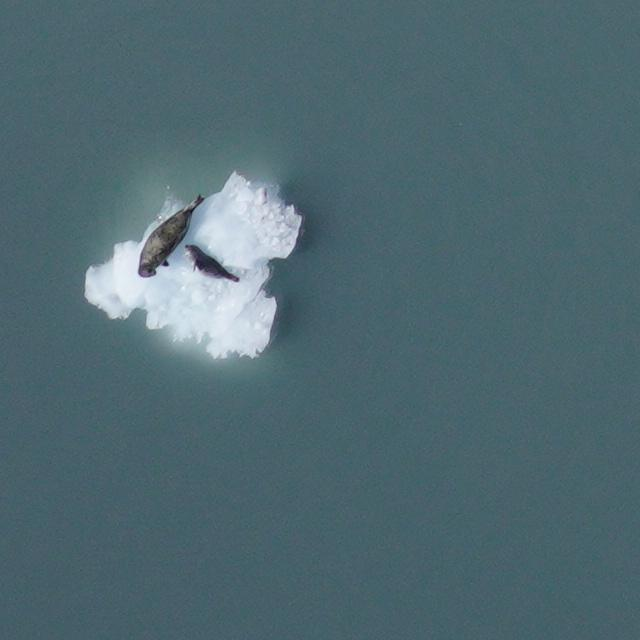seal: (138, 195, 204, 278), (186, 245, 238, 281)
